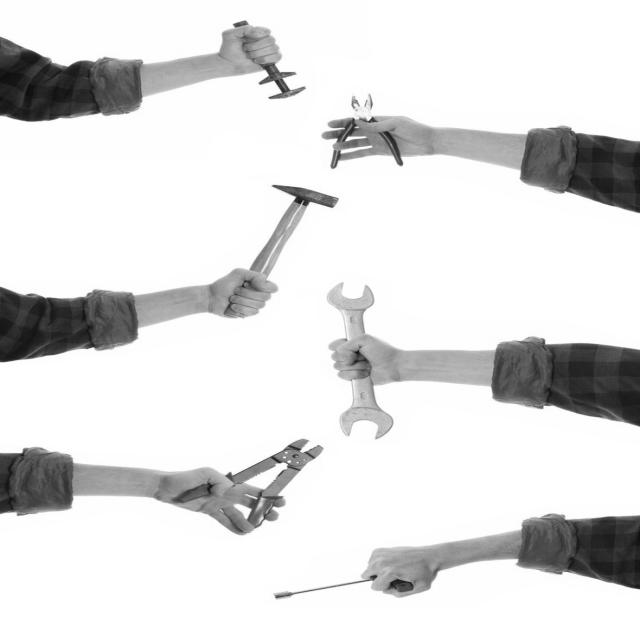hammer: (221, 178, 343, 319)
pliers: (143, 433, 328, 526), (323, 87, 430, 181)
wrench: (326, 274, 431, 448)
